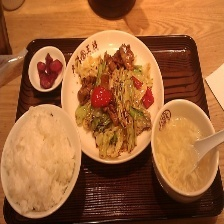rice: (0, 107, 75, 216)
